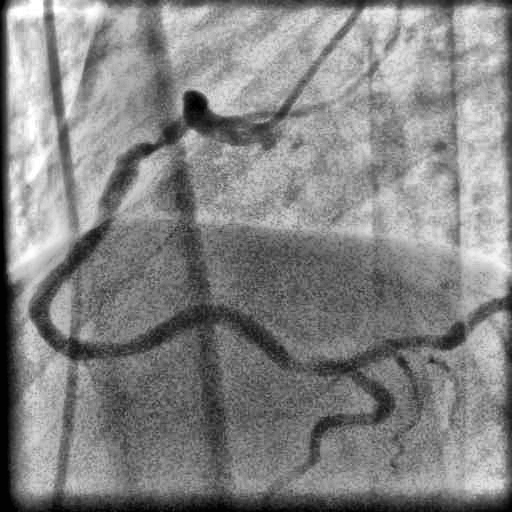pborca: (352, 297, 510, 368)
pda: (277, 372, 395, 489)
rca: (28, 110, 351, 375)
